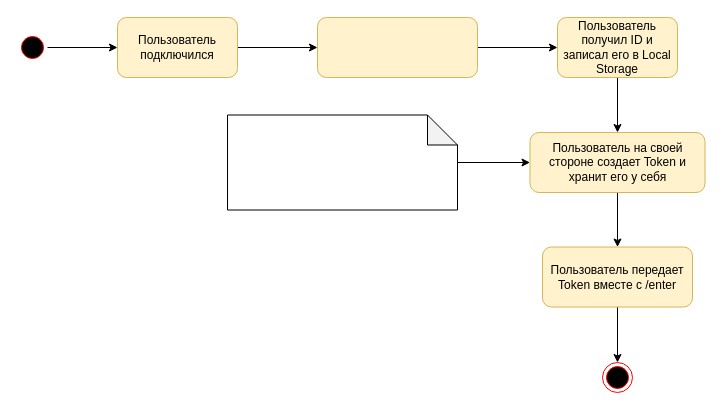
Some shapes in this 723 by 410 pixel diagram are drawn without their labels. The centre of each missing label's shape, as x and y in pixels:
"Пользователь сразу же отправляет запрос на получение ID" goes at point (397, 47).
"Стоит уточнить, что пользователь хранит Token у себя в Session Storage" goes at point (342, 162).
